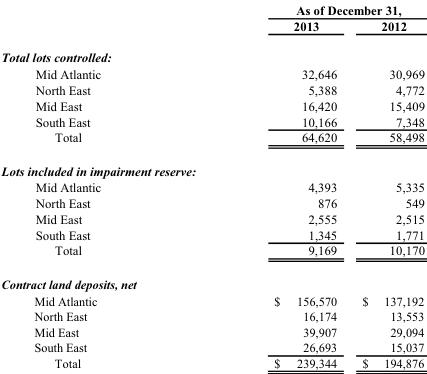table: (0, 1, 424, 370)
table column: (0, 1, 186, 370), (186, 1, 348, 370), (348, 1, 424, 370)
table column header: (0, 1, 424, 41)
table projected row header: (0, 266, 424, 292), (0, 153, 424, 178), (0, 41, 424, 65)
table row: (0, 266, 424, 292), (0, 128, 424, 153), (0, 153, 424, 178), (0, 17, 424, 41), (0, 41, 424, 65), (0, 242, 424, 266), (0, 1, 424, 17), (0, 65, 424, 81), (0, 81, 424, 97), (0, 97, 424, 113), (0, 178, 424, 194), (0, 194, 424, 210), (0, 210, 424, 226), (0, 226, 424, 242), (0, 292, 424, 308), (0, 323, 424, 339), (0, 354, 424, 370), (0, 113, 424, 128), (0, 308, 424, 323), (0, 339, 424, 354)
table spanning cell: (186, 1, 424, 17)
